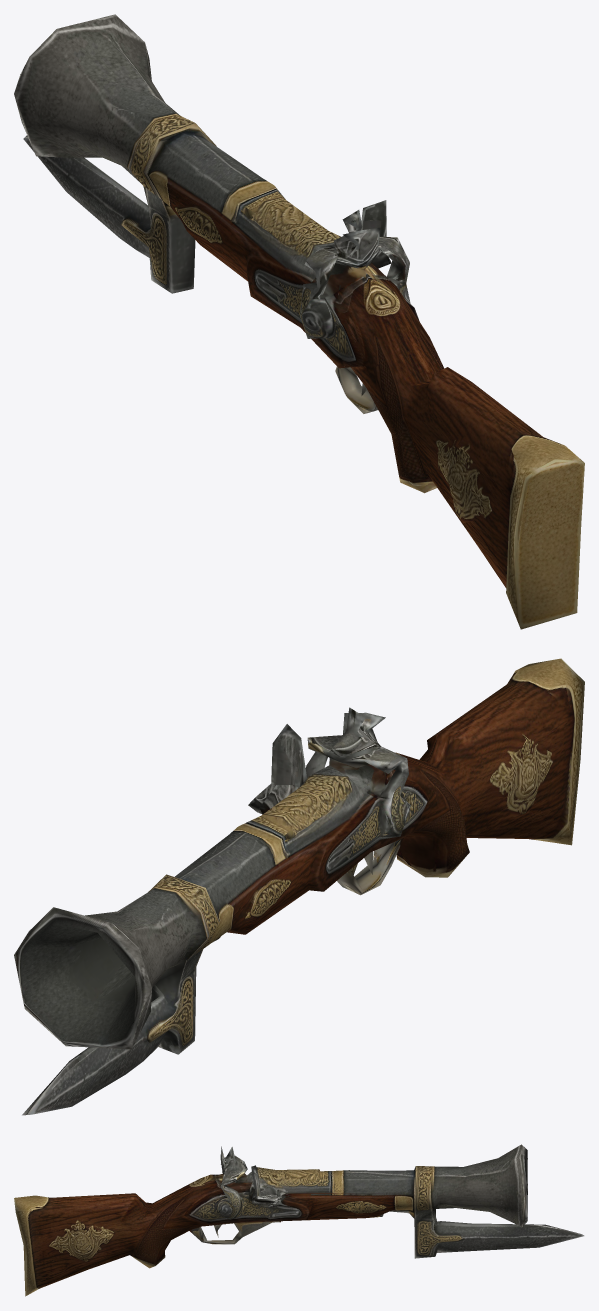
The model's file is infantry_hp_musket.fbx.
3 views of the same model, one above another, from view 1: azimuth 30°, elevation 25°; view 2: azimuth 150°, elevation 25°; view 3: azimuth 270°, elevation 25° (orthographic). The views are drawn at different scales.
Parts seen in each view (by area): view 1: tripo_node_95f6cb43-9a15-42a2-be1f-4e12935afe0c; view 2: tripo_node_95f6cb43-9a15-42a2-be1f-4e12935afe0c; view 3: tripo_node_95f6cb43-9a15-42a2-be1f-4e12935afe0c.
Boxes of the visible parts, bbox=[...] form: tripo_node_95f6cb43-9a15-42a2-be1f-4e12935afe0c: bbox=[14, 14, 584, 629]; tripo_node_95f6cb43-9a15-42a2-be1f-4e12935afe0c: bbox=[14, 658, 584, 1115]; tripo_node_95f6cb43-9a15-42a2-be1f-4e12935afe0c: bbox=[14, 1144, 584, 1296].
Size of the model in its own units: 14.56 by 27.62 by 98.5.
1 material, 1 textured.
